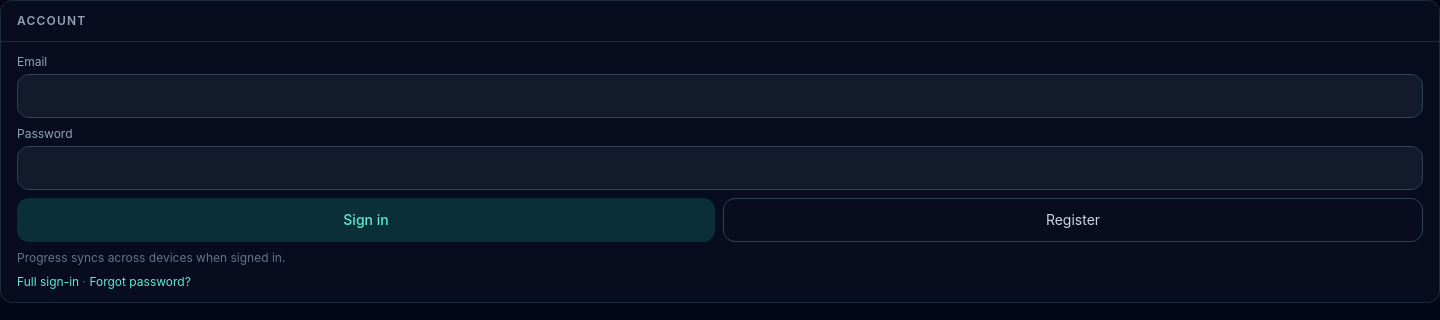
AccountPanel › logs in and shows the account with a sign-out button
Expected: the button with test id "anatomy-account-login" is shown, [17,198,715,242]
Step 1. Type "a@b.c" into the field with test id "anatomy-account-email" → (720, 96), box [17,74,1423,118]
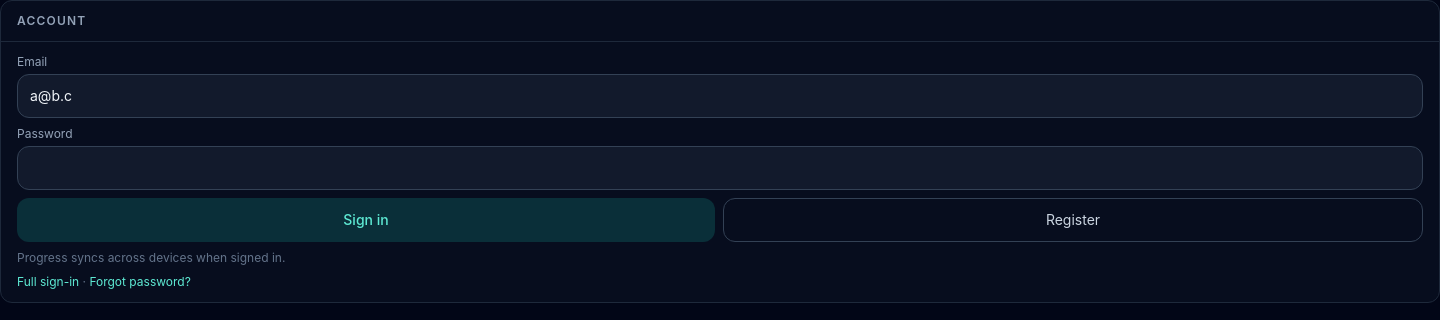
Step 2. Type "password123" into the password field with test id "anatomy-account-password" → (720, 168), box [17,146,1423,190]
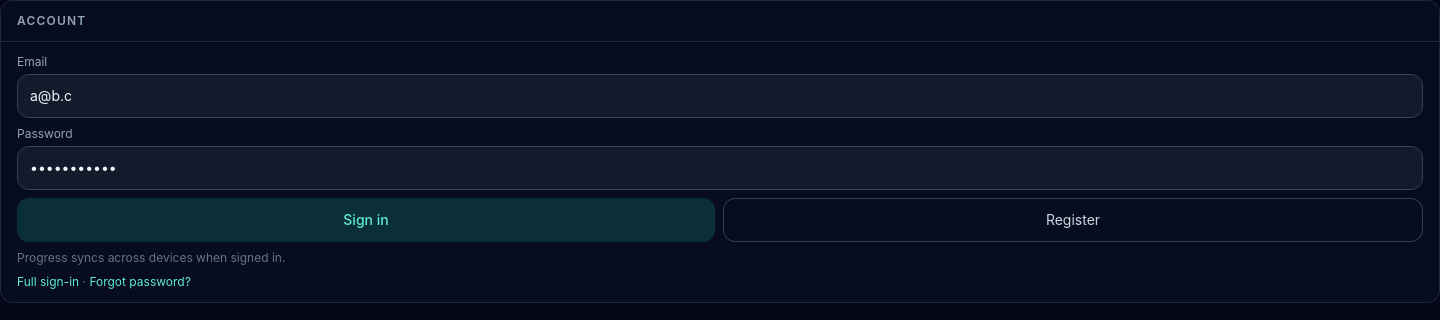
Step 3. Click the button with test id "anatomy-account-login" → (366, 220), box [17,198,715,242]
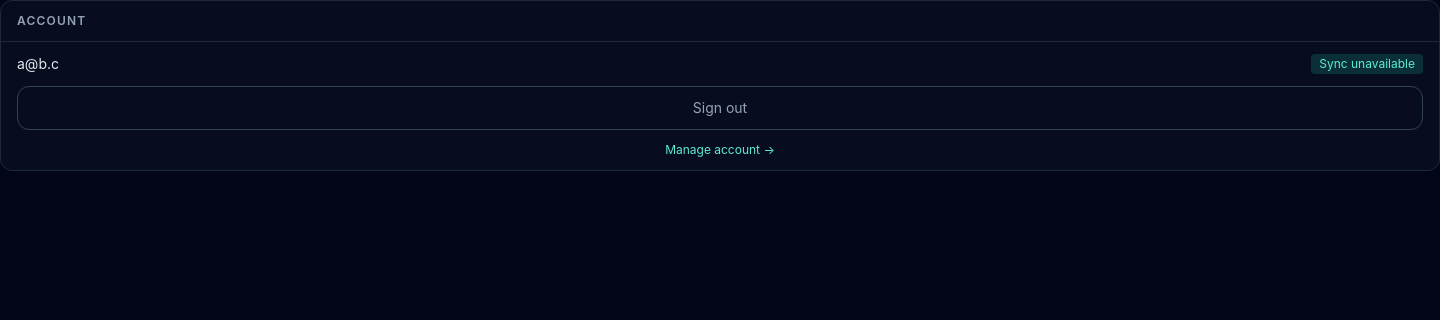
Expected: the text "a@b.c" is shown, [17,54,59,74]
Expected: the text with test id "anatomy-account-user" reads "a@b.c", [17,55,59,72]
Expected: the button with test id "anatomy-account-logout" is shown, [17,86,1423,130]
